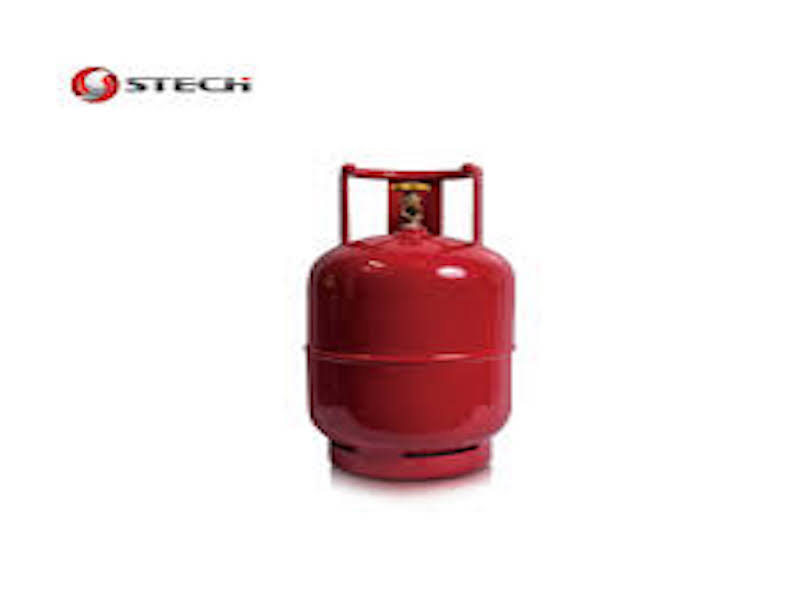combustible substance: (307, 148, 503, 487)
